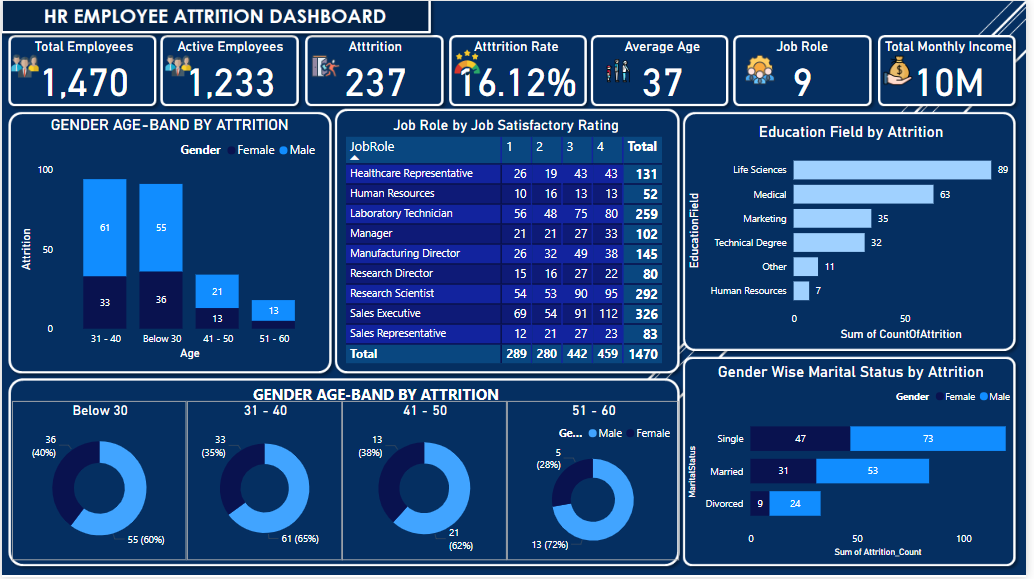

This screenshot's page, from the dashboard's own definition file:
{"tool":"powerbi","page":{"name":"Page 2","canvas":[1280,720],"ordinal":1},"visuals":[{"type":"card","title":"Total Employees","fields":{"Values":["HR_Employee_Attrition.# TotalEmployee"]},"box":[27.4,45.7,149.7,81.1],"z":0},{"type":"card","title":"Atttrition","fields":{"Values":["Sum(HR_Employee_Attrition.CountOfAttrition)"]},"box":[389.7,45.7,153.1,81.1],"z":1000},{"type":"card","title":"Active Employees","fields":{"Values":["HR_Employee_Attrition.ActiveEmp"]},"box":[209.1,45.7,153.1,81.1],"z":2000},{"type":"card","title":"Atttrition Rate","fields":{"Values":["HR_Employee_Attrition.RateAttrition"]},"box":[560,45.7,165.7,81.1],"z":3000},{"type":"card","title":"Average Age","fields":{"Values":["HR_Employee_Attrition.AverageAge"]},"box":[748.6,45.7,153.1,81.1],"z":4000},{"type":"card","title":"Job Role","fields":{"Values":["HR_Employee_Attrition.# JobRoles"]},"box":[923.4,45.7,153.1,81.1],"z":5000},{"type":"card","title":"Total Monthly Income","fields":{"Values":["HR_Employee_Attrition.# TotalMonthlyIncome"]},"box":[1096,45.7,173.7,81.1],"z":6000},{"type":"columnChart","title":"GENDER AGE-BAND BY ATTRITION","fields":{"Category":["HR_Employee_Attrition.AgeClass"],"Y":["Sum(HR_Employee_Attrition.CountOfAttrition)"],"Series":["HR_Employee_Attrition.Gender"]},"box":[17.1,144,384,308.6],"z":7000},{"type":"pivotTable","title":"Job Role by Job Satisfactory Rating","fields":{"Rows":["HR_Employee_Attrition.JobRole"],"Columns":["HR_Employee_Attrition.JobSatisfaction"],"Values":["Sum(HR_Employee_Attrition.EmployeeCount)"]},"box":[425.4,143.9,410,330.3],"z":8000},{"type":"barChart","title":"Education Field by Attrition","fields":{"Category":["HR_Employee_Attrition.EducationField"],"Y":["Sum(HR_Employee_Attrition.CountOfAttrition)"]},"box":[852,152.9,417.7,276.3],"z":9000},{"type":"donutChart","title":"Below 30","fields":{"Category":["HR_Employee_Attrition.Gender"],"Y":["Sum(HR_Employee_Attrition.CountOfAttrition)"]},"box":[12.9,499.9,218.5,199.2],"z":10000},{"type":"donutChart","title":"31 - 40","fields":{"Category":["HR_Employee_Attrition.Gender"],"Y":["Sum(HR_Employee_Attrition.CountOfAttrition)"]},"box":[231.3,499.9,194.1,199.2],"z":11000},{"type":"donutChart","title":"41 - 50","fields":{"Category":["HR_Employee_Attrition.Gender"],"Y":["Sum(HR_Employee_Attrition.CountOfAttrition)"]},"box":[425.4,499.9,205.6,199.2],"z":12000},{"type":"donutChart","title":"51 - 60","fields":{"Category":["HR_Employee_Attrition.Gender"],"Y":["Sum(HR_Employee_Attrition.CountOfAttrition)"]},"box":[631,499.9,214.6,199.2],"z":13000},{"type":"textbox","box":[308.4,474.2,417.7,34.7],"z":14000},{"type":"barChart","title":"Gender Wise Marital Status by Attrition","fields":{"Category":["HR_Employee_Attrition.MaritalStatus"],"Y":["Sum(HR_Employee_Attrition.Attrition_Count)"],"Series":["HR_Employee_Attrition.Gender"]},"box":[852.6,452.6,417.1,246.9],"z":14001},{"type":"image","box":[6.9,58.3,44.6,44.6],"z":14002},{"type":"image","box":[376,58.3,56,44.6],"z":14003},{"type":"image","box":[199,56,43,49],"z":14004},{"type":"image","box":[923.4,61.7,46.9,49.1],"z":14005},{"type":"image","box":[560,52.6,43.4,48],"z":14006},{"type":"image","box":[749,67,43,39],"z":14007},{"type":"image","box":[1096,61.7,46.9,50.3],"z":14008}]}

Visuals, with their boxes in screenshot pixels (x1, y1, x2, y2), scaled from the page's 1280x720 canvas onto the 1034x579 screenshot:
"Total Employees" card: (22,37,143,102)
"Atttrition" card: (315,37,438,102)
"Active Employees" card: (169,37,293,102)
"Atttrition Rate" card: (452,37,586,102)
"Average Age" card: (605,37,728,102)
"Job Role" card: (746,37,870,102)
"Total Monthly Income" card: (885,37,1026,102)
"GENDER AGE-BAND BY ATTRITION" columnChart: (14,116,324,364)
"Job Role by Job Satisfactory Rating" pivotTable: (344,116,675,381)
"Education Field by Attrition" barChart: (688,123,1026,345)
"Below 30" donutChart: (10,402,187,562)
"31 - 40" donutChart: (187,402,344,562)
"41 - 50" donutChart: (344,402,510,562)
"51 - 60" donutChart: (510,402,683,562)
textbox: (249,381,587,409)
"Gender Wise Marital Status by Attrition" barChart: (689,364,1026,563)
image: (6,47,42,83)
image: (304,47,349,83)
image: (161,45,195,84)
image: (746,50,784,89)
image: (452,42,487,81)
image: (605,54,640,85)
image: (885,50,923,90)
